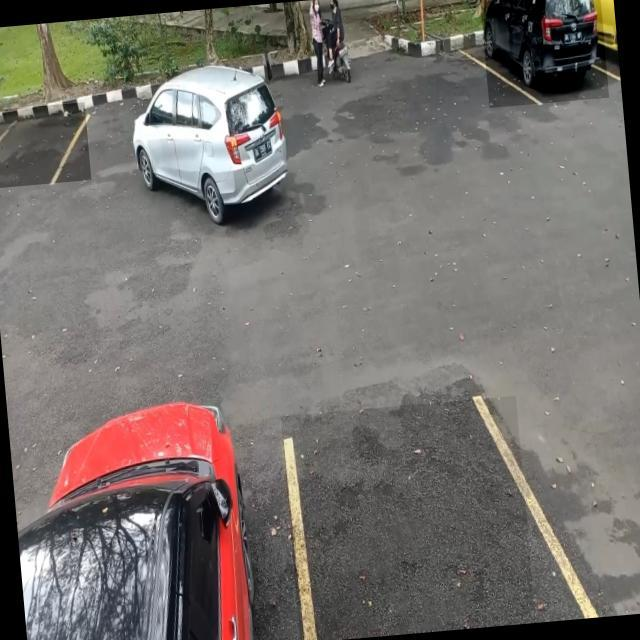empty: (280, 395, 535, 640), (0, 102, 90, 189)
occupied: (478, 0, 608, 107)
